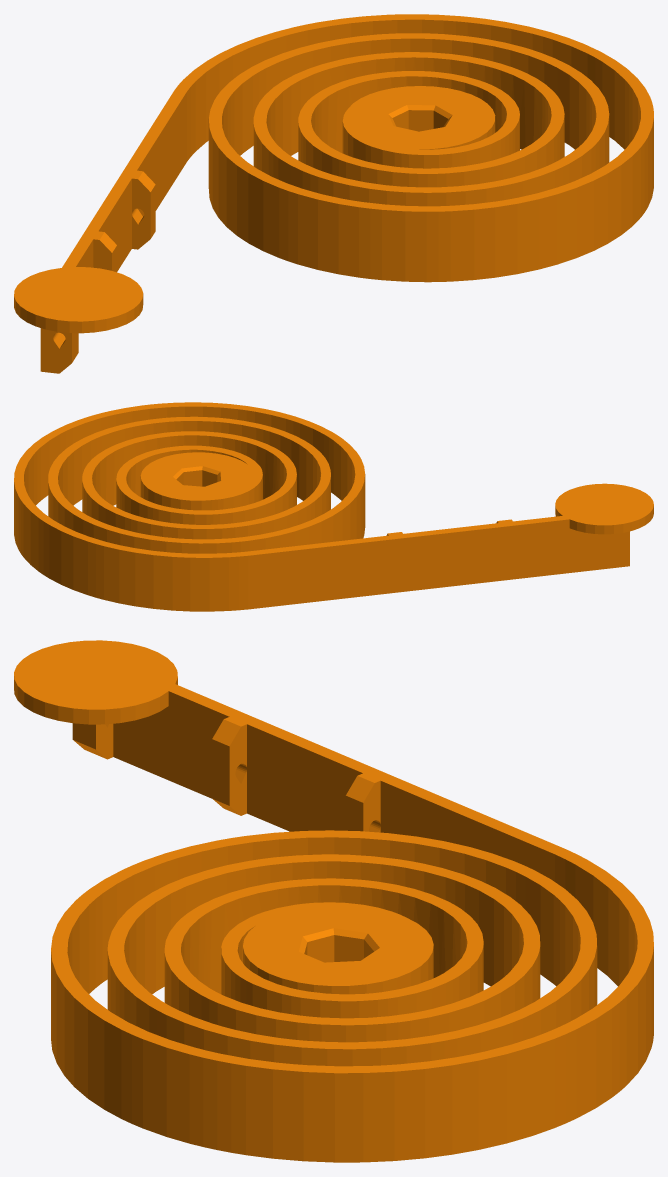
The picture shows the model from 3 angles, top to bottom: view 1: azimuth 30°, elevation 25°; view 2: azimuth 150°, elevation 25°; view 3: azimuth 270°, elevation 25°; orthographic projection. The views are drawn at different scales.
Visible parts, largest first — view 1: Part 1_4; view 2: Part 1_4; view 3: Part 1_4.
Boxes of the visible parts, box(x1,y1,x2,y2) form: Part 1_4: box(14, 14, 653, 373); Part 1_4: box(14, 402, 653, 611); Part 1_4: box(14, 640, 653, 1162).
Bounding box in the file's own units: 125 × 12 × 77.89.
